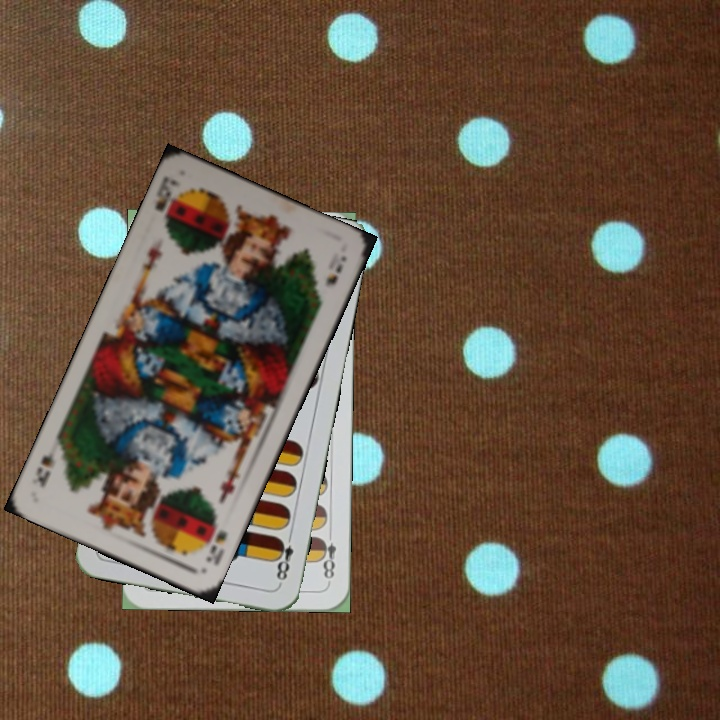E8: (270, 529, 296, 587), (315, 527, 339, 586)
SK: (151, 173, 184, 215), (202, 526, 230, 568)
